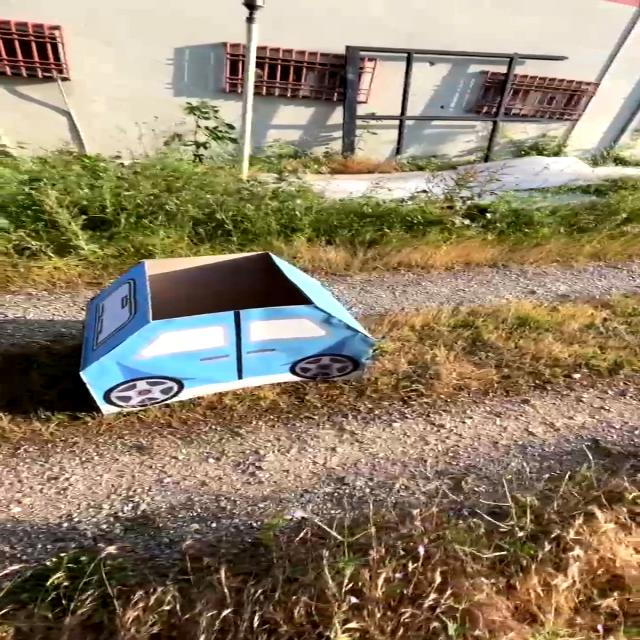blue_car: (33, 240, 418, 435)
